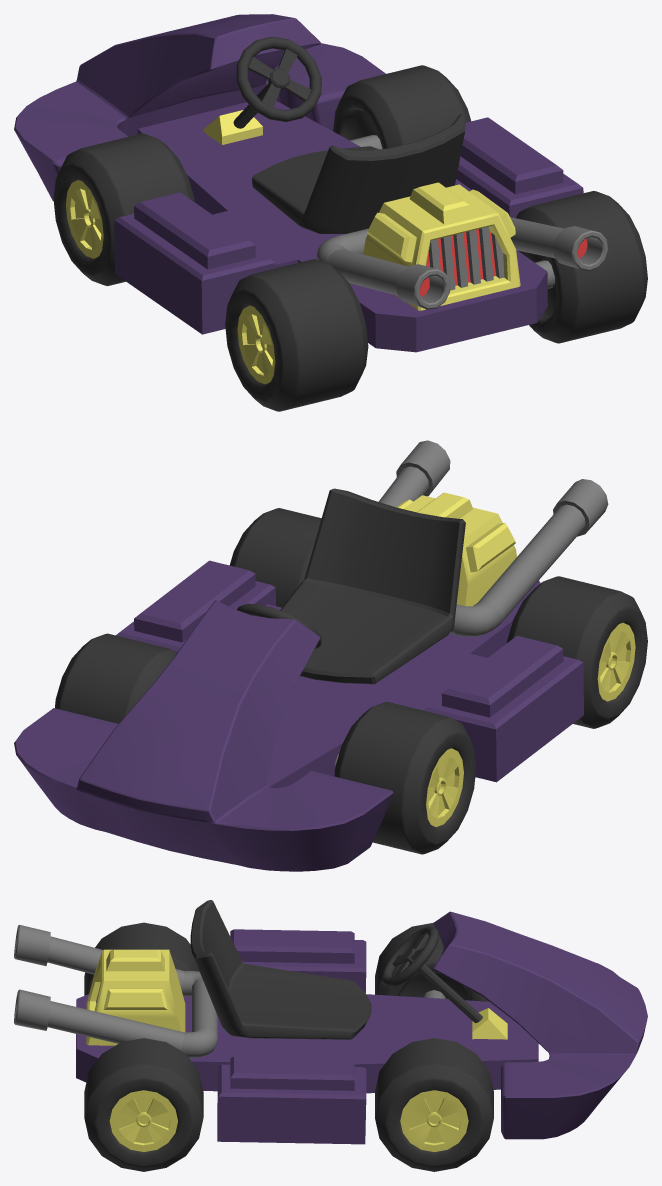
Rendered from KART_BEST.fbx.
3 views of the same model, one above another, from view 1: azimuth 30°, elevation 25°; view 2: azimuth 150°, elevation 25°; view 3: azimuth 270°, elevation 25° (orthographic). The views are drawn at different scales.
Visible parts, largest first — view 1: main_board, front_chasis, rear_L_tire, seat, rear_R_tire, front_L_tire, engine_block1, exhaust_pipes, front_R_tire, steering_column, L_inner_wheel, L_inner_wheel2 (+5 smaller); view 2: front_chasis, main_board, seat, front_L_tire, rear_L_tire, exhaust_pipes, front_R_tire, rear_R_tire, engine_block1, L_inner_wheel, L_inner_wheel2, steering_column; view 3: main_board, front_chasis, seat, rear_R_tire, front_R_tire, exhaust_pipes, engine_block1, R_inner_wheel2, R_inner_wheel, steering_column, rear_L_tire, front_L_tire (+1 smaller).
Part boxes in pixels (bbox=[...]): main_board: bbox=[114, 101, 583, 352]; front_chasis: bbox=[14, 14, 385, 200]; rear_L_tire: bbox=[225, 259, 368, 411]; seat: bbox=[252, 114, 465, 233]; rear_R_tire: bbox=[516, 191, 647, 343]; front_L_tire: bbox=[53, 133, 194, 286]; engine_block1: bbox=[363, 182, 520, 310]; exhaust_pipes: bbox=[317, 217, 608, 309]; front_R_tire: bbox=[333, 65, 470, 148]; steering_column: bbox=[233, 36, 321, 128]; L_inner_wheel: bbox=[66, 180, 103, 258]; L_inner_wheel2: bbox=[237, 305, 275, 384]; front_chasis: bbox=[14, 600, 393, 871]; main_board: bbox=[116, 560, 583, 788]; seat: bbox=[280, 488, 465, 684]; front_L_tire: bbox=[334, 701, 476, 854]; rear_L_tire: bbox=[507, 576, 647, 728]; exhaust_pipes: bbox=[378, 440, 608, 636]; front_R_tire: bbox=[55, 633, 177, 723]; rear_R_tire: bbox=[229, 508, 321, 607]; engine_block1: bbox=[396, 492, 516, 606]; L_inner_wheel: bbox=[426, 748, 463, 826]; L_inner_wheel2: bbox=[597, 622, 635, 701]; steering_column: bbox=[237, 603, 321, 648]; main_board: bbox=[76, 929, 538, 1144]; front_chasis: bbox=[433, 911, 647, 1139]; seat: bbox=[190, 900, 371, 1039]; rear_R_tire: bbox=[84, 1038, 203, 1171]; front_R_tire: bbox=[375, 1038, 493, 1171]; exhaust_pipes: bbox=[14, 925, 217, 1057]; engine_block1: bbox=[86, 949, 185, 1045]; R_inner_wheel2: bbox=[109, 1090, 177, 1151]; R_inner_wheel: bbox=[400, 1090, 468, 1151]; steering_column: bbox=[382, 926, 482, 1022]; rear_L_tire: bbox=[84, 922, 199, 995]; front_L_tire: bbox=[375, 923, 489, 1001].
Bounding box in the file's own units: 8.85 × 4.57 × 15.03.
